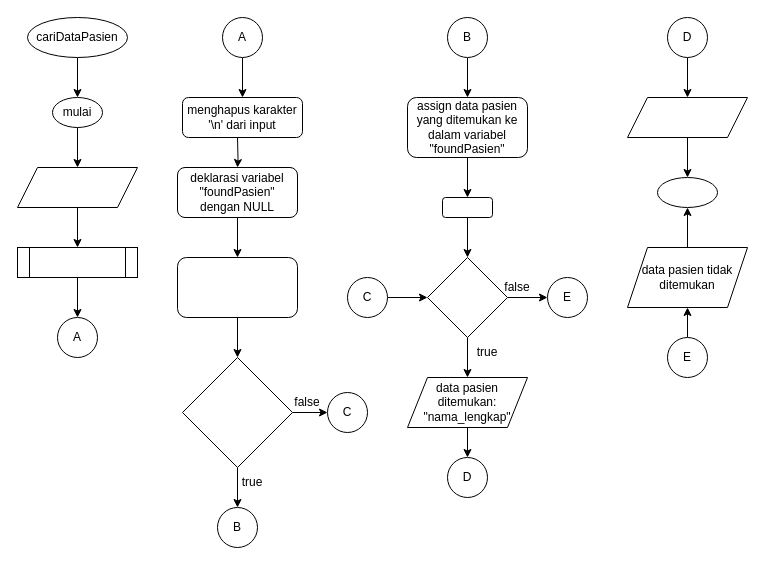
This 765x565 diagram has some shape labels left out. The centre of each missing label's shape, as x and y in pixels:
break: [467,207]
clearInputBuffer: [77,262]
foundPasien: [467,297]
nama pasien dalam struct = nama pasien yang hendak dicari: [237,412]
nama pasien yang ingin dicari: [77,187]
pengulangan sebanyak variabel "count" (jumlah pasien): [237,287]
rincian data pasien yang ditemukan: [687,117]
selesai: [687,192]
